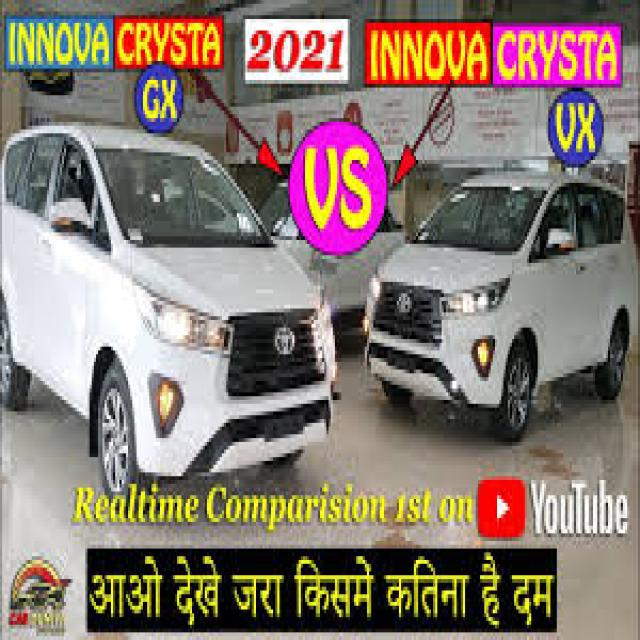light_vehicle: (0, 123, 336, 500), (364, 171, 640, 446)
